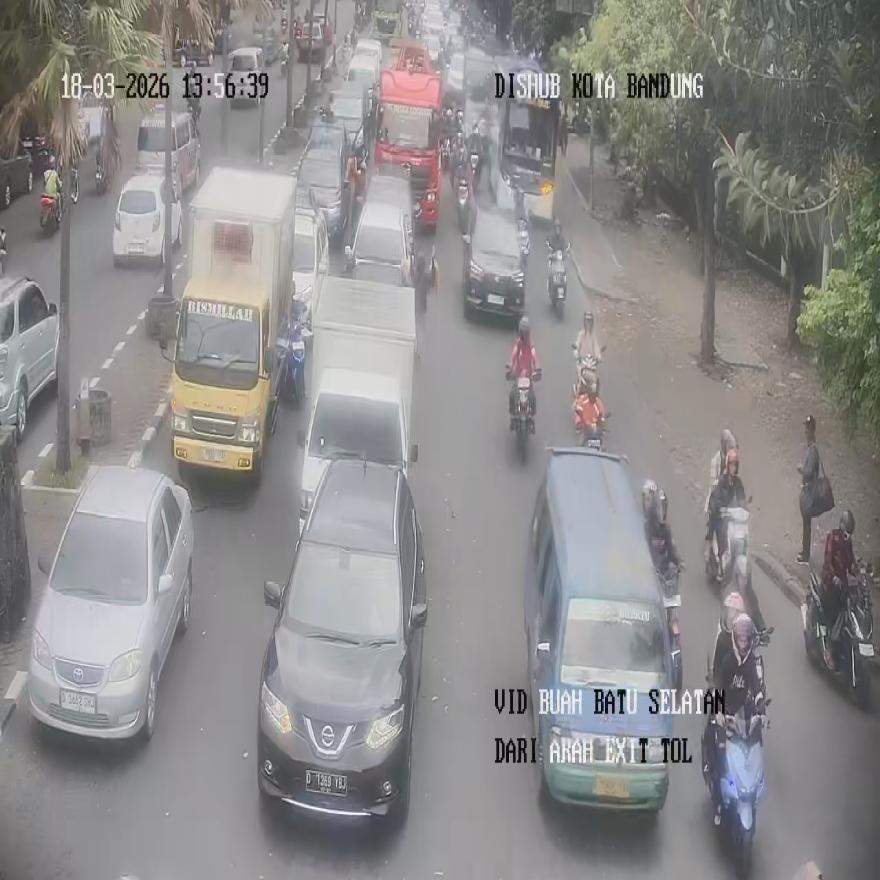Mobil: (256, 456, 427, 821), (523, 446, 677, 812), (26, 466, 193, 740), (297, 275, 418, 541), (0, 275, 58, 441), (344, 170, 418, 285), (113, 171, 182, 265), (290, 188, 329, 331)
Motor: (703, 690, 766, 877), (801, 564, 874, 706), (704, 506, 750, 604), (573, 347, 604, 450), (659, 561, 682, 692), (506, 366, 537, 459), (546, 237, 570, 317), (457, 154, 475, 238), (39, 184, 61, 233), (94, 142, 110, 195)
Truk ringan: (158, 166, 295, 479)
bus: (484, 59, 560, 221)
